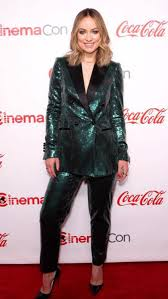middle_eastern_Female: (74, 13, 103, 54)
